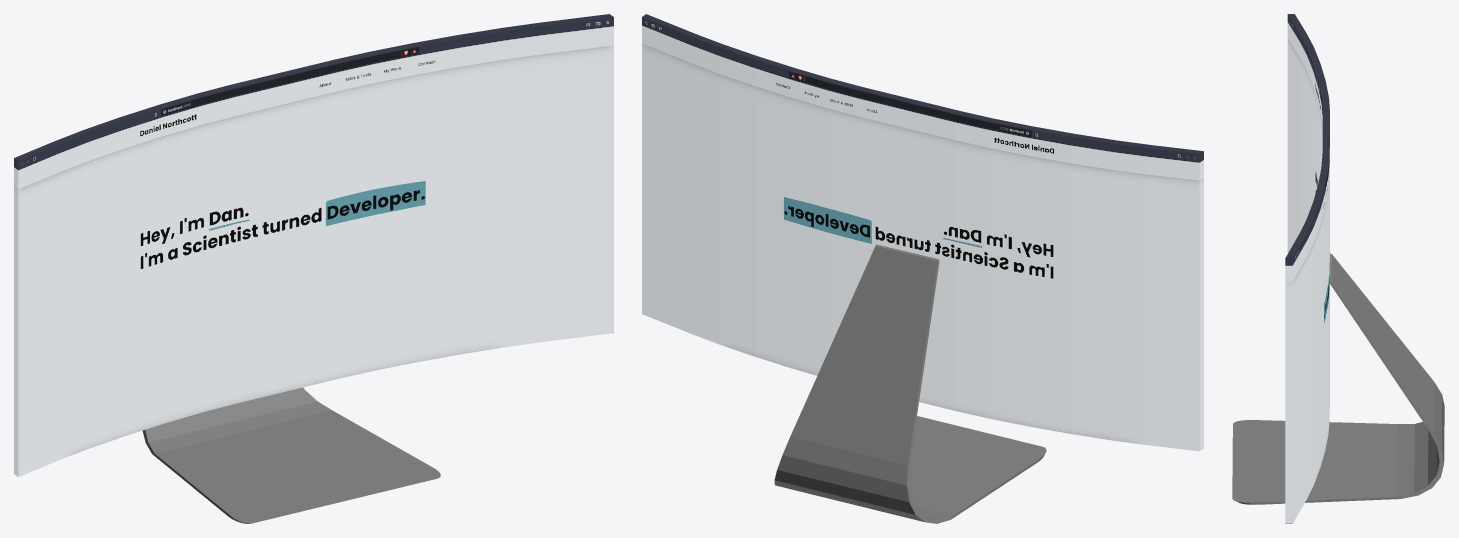
Rendered from portfolio-monitor-3-transformed.glb.
The picture shows the model from 3 angles, left to right: view 1: azimuth 30°, elevation 25°; view 2: azimuth 150°, elevation 25°; view 3: azimuth 270°, elevation 25°; orthographic projection. The views are drawn at different scales.
Parts seen in each view (by area): view 1: Screenshot 2022-09-08 at 10.01.54, Object; view 2: Screenshot 2022-09-08 at 10.01.54, Object; view 3: Screenshot 2022-09-08 at 10.01.54, Object.
Part boxes in pixels (bbox=[...]): Screenshot 2022-09-08 at 10.01.54: bbox=[14, 14, 613, 476]; Object: bbox=[142, 387, 440, 523]; Screenshot 2022-09-08 at 10.01.54: bbox=[642, 14, 1203, 451]; Object: bbox=[774, 244, 1046, 523]; Screenshot 2022-09-08 at 10.01.54: bbox=[1285, 14, 1329, 523]; Object: bbox=[1232, 253, 1444, 504].
Bounding box in the file's own units: 7.99 × 5.03 × 2.94.
2 materials, 1 textured.
